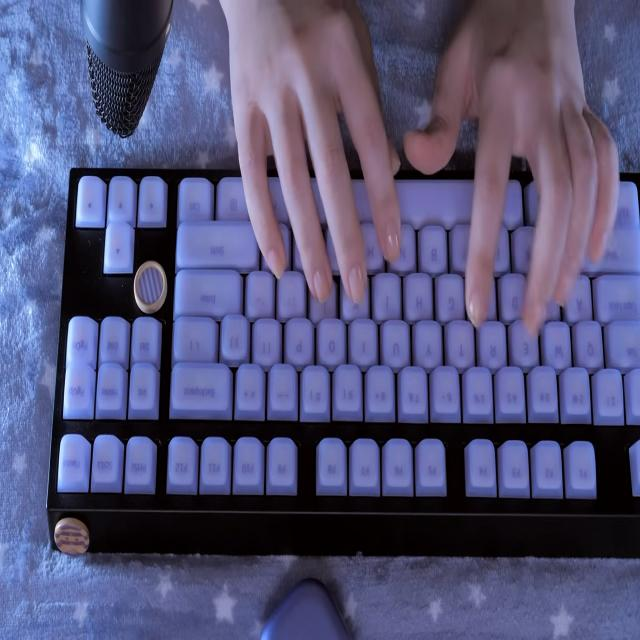keyboard-with-hands: (49, 168, 640, 515)
